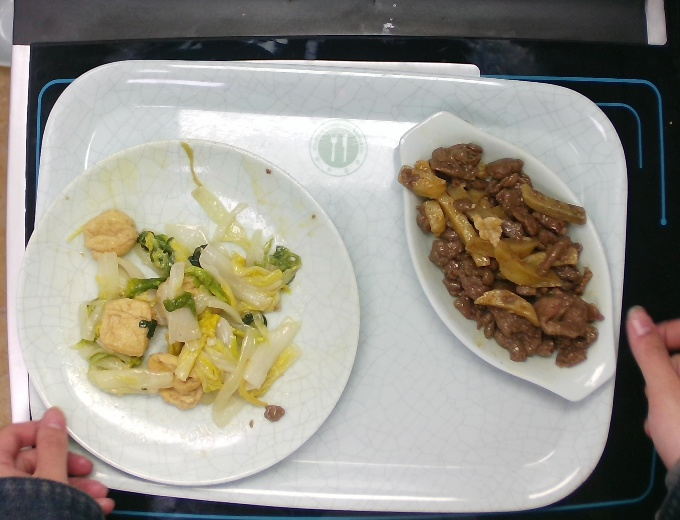JYsf-Da_Yuan_Pan: (10, 133, 365, 492)
JYsf-Yu_Pan: (395, 105, 623, 406)
